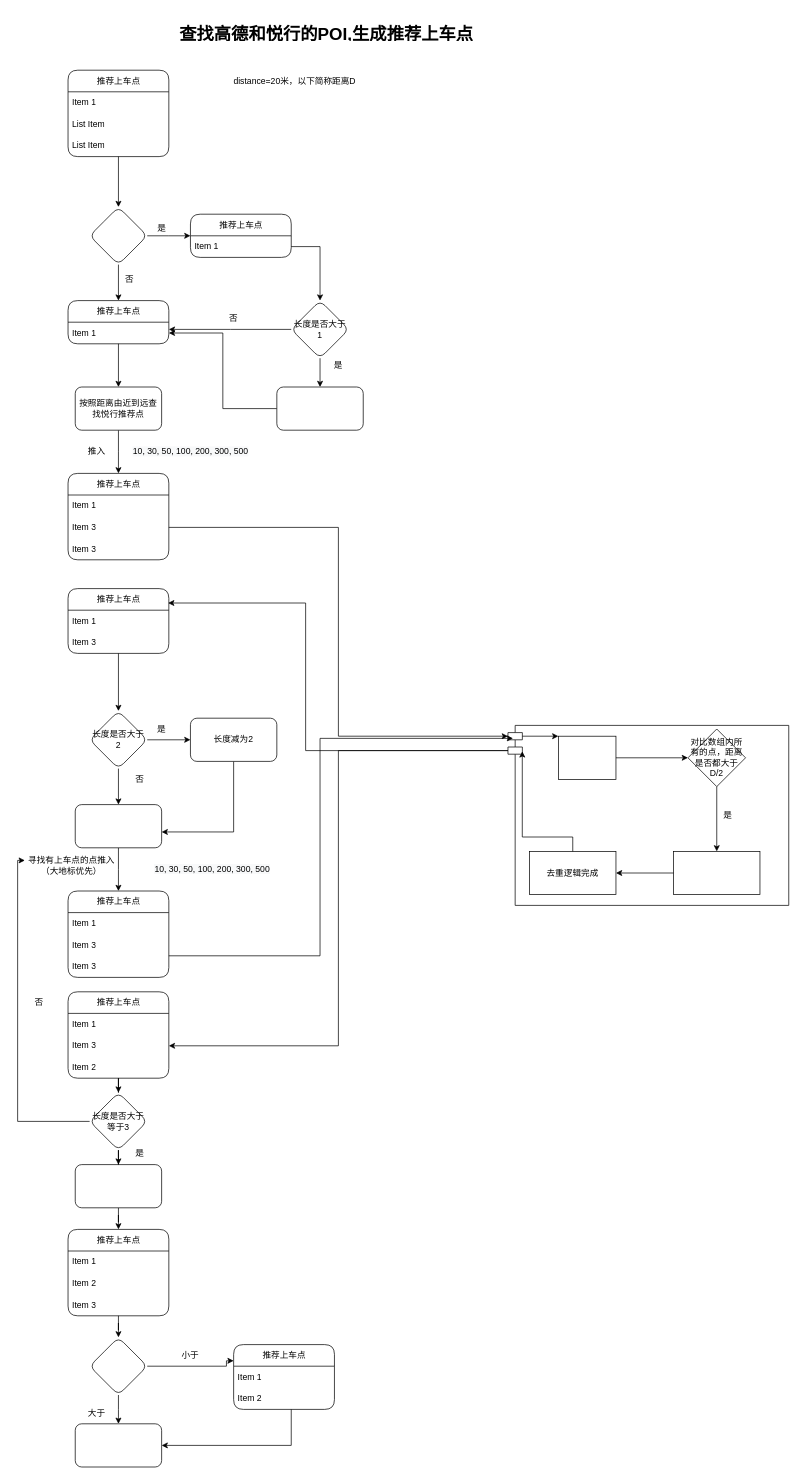
Some shapes in this 801 by 1480 pixel diagram are drawn without their labels. The centre of each missing label's shape, as x and y in pixels:
"保留第一个元素" belongs at [319,408].
"去重逻辑" belongs at [587,757].
"地图缩放太小(小于17级)的时候只显示两个推荐点，防止推荐点堆叠" belongs at [118,1366].
"按照距离由近到远查找高德推荐点" belongs at [118,826].
"排序，选出离用户最近的点" belongs at [118,1186].
"步行和直线距离是否都小于D" belongs at [118,235].
"点名去重" belongs at [716,873].
"输出" belongs at [118,1445].
